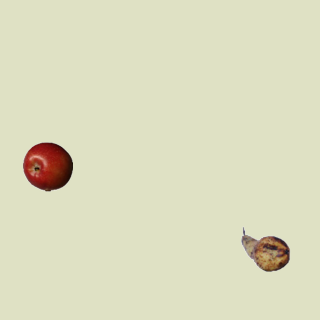Apple Braeburn: (22, 141, 72, 191)
Pear Abate: (240, 224, 290, 274)
